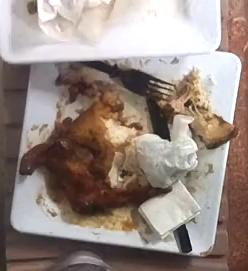chicken: (30, 93, 155, 214)
